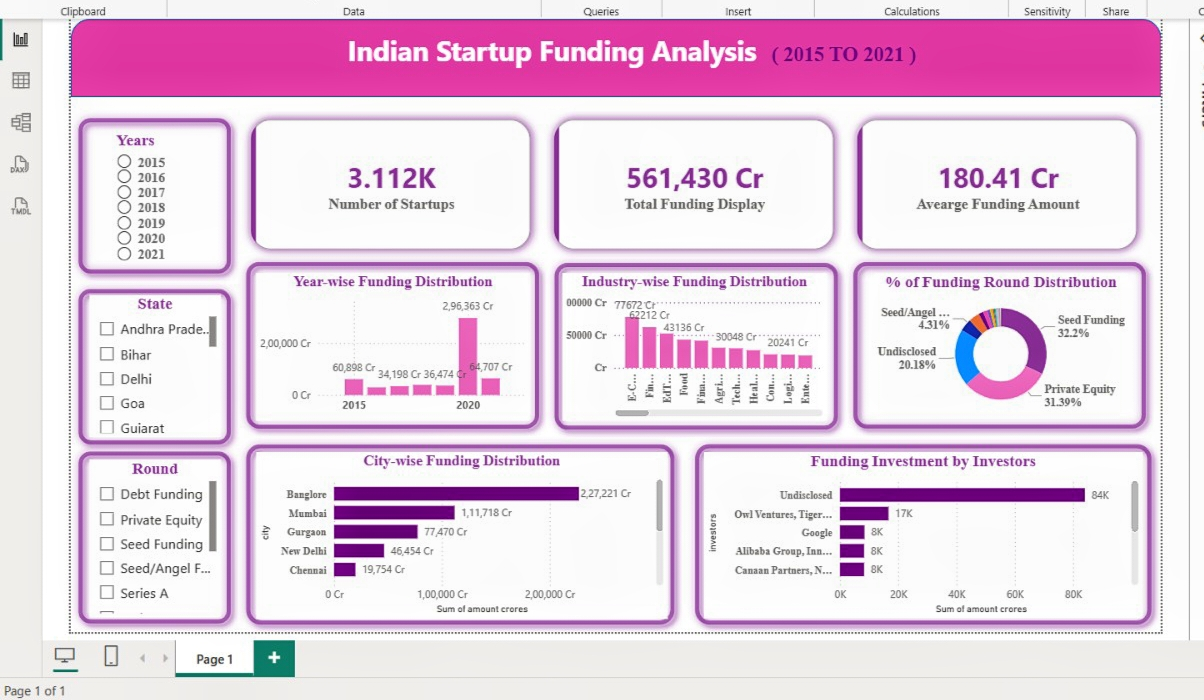

What the dashboard file says about the page in this screenshot:
{"tool":"powerbi","page":{"name":"Page 1","canvas":[1280,720],"ordinal":0},"visuals":[{"type":"shape","box":[0,0,1280.3,91.9],"z":0},{"type":"textbox","box":[320.4,11,959.9,348.5],"z":1000},{"type":"shape","box":[910,276.2,361.2,213.8],"z":2000},{"type":"cardVisual","fields":{"Data":["startup_import.Number of Startups","startup_import.Total Funding Display","startup_import.Avearge Funding Amount"]},"box":[184.6,91.7,1095.7,206.7],"z":3000},{"type":"shape","box":[558.8,277.6,351,214],"z":4000},{"type":"shape","box":[196.9,276.4,362,214],"z":5000},{"type":"donutChart","title":"% of Funding Round Distribution","fields":{"Y":["CountNonNull(startup_import.amount crores)"],"Category":["startup_import.round"]},"box":[943.8,298.8,296.2,170],"z":6000},{"type":"columnChart","title":"Industry-wise Funding Distribution","fields":{"Category":["startup_import.industry"],"Y":["Sum(startup_import.amount crores)"]},"box":[577.2,298.4,310.6,173.6],"z":7000},{"type":"columnChart","title":"Year-wise Funding Distribution","fields":{"Category":["startup_import.year"],"Y":["Sum(startup_import.amount crores)"]},"box":[217.7,297.1,321.6,173.6],"z":8000},{"type":"shape","box":[196.9,490.4,520.9,229.9],"z":9000},{"type":"shape","box":[723.8,490,553.8,230],"z":10000},{"type":"clusteredBarChart","title":"City-wise Funding Distribution","fields":{"Category":["startup_import.city"],"Y":["Sum(startup_import.amount crores)"]},"box":[217.7,508.7,483,195.7],"z":11000},{"type":"clusteredBarChart","title":"Funding Investment by Investors","fields":{"Category":["startup_import.investors"],"Y":["Sum(startup_import.amount crores)"]},"box":[743.8,508.8,515,195],"z":12000},{"type":"shape","box":[0,107.6,196.9,200.5],"z":13000},{"type":"listSlicer","title":"Years","fields":{"Values":["startup_import.year"]},"box":[48.9,132.1,116.2,176.1],"z":14000},{"type":"shape","box":[0,498.9,196.9,220.1],"z":15000},{"type":"slicer","title":"Round","fields":{"Values":["startup_import.round"]},"box":[22,517.3,154.1,185.9],"z":16000},{"type":"shape","box":[0,308.2,196.9,200.5],"z":17000},{"type":"slicer","title":"State","fields":{"Values":["startup_import.state"]},"box":[22,324.1,154.1,167.5],"z":18000}]}

Visuals, with their boxes on the page's 1280x720 design canvas (x1, y1, x2, y2). These are canvas units, not pixel positions in the 1204x700 screenshot, which may show the page scaled, cropped or inside an application window:
shape: (left=0, top=0, right=1280, bottom=92)
textbox: (left=320, top=11, right=1280, bottom=360)
shape: (left=910, top=276, right=1271, bottom=490)
cardVisual - startup_import.Number of Startups x startup_import.Total Funding Display: (left=185, top=92, right=1280, bottom=298)
shape: (left=559, top=278, right=910, bottom=492)
shape: (left=197, top=276, right=559, bottom=490)
"% of Funding Round Distribution" donutChart: (left=944, top=299, right=1240, bottom=469)
"Industry-wise Funding Distribution" columnChart: (left=577, top=298, right=888, bottom=472)
"Year-wise Funding Distribution" columnChart: (left=218, top=297, right=539, bottom=471)
shape: (left=197, top=490, right=718, bottom=720)
shape: (left=724, top=490, right=1278, bottom=720)
"City-wise Funding Distribution" clusteredBarChart: (left=218, top=509, right=701, bottom=704)
"Funding Investment by Investors" clusteredBarChart: (left=744, top=509, right=1259, bottom=704)
shape: (left=0, top=108, right=197, bottom=308)
"Years" listSlicer: (left=49, top=132, right=165, bottom=308)
shape: (left=0, top=499, right=197, bottom=719)
"Round" slicer: (left=22, top=517, right=176, bottom=703)
shape: (left=0, top=308, right=197, bottom=509)
"State" slicer: (left=22, top=324, right=176, bottom=492)
